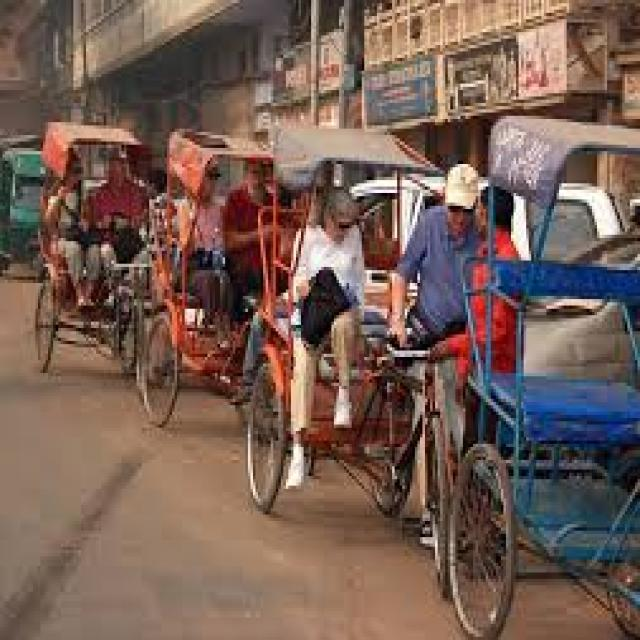bicycle: (415, 116, 640, 636), (245, 130, 479, 541), (138, 132, 271, 424), (35, 122, 152, 371)
